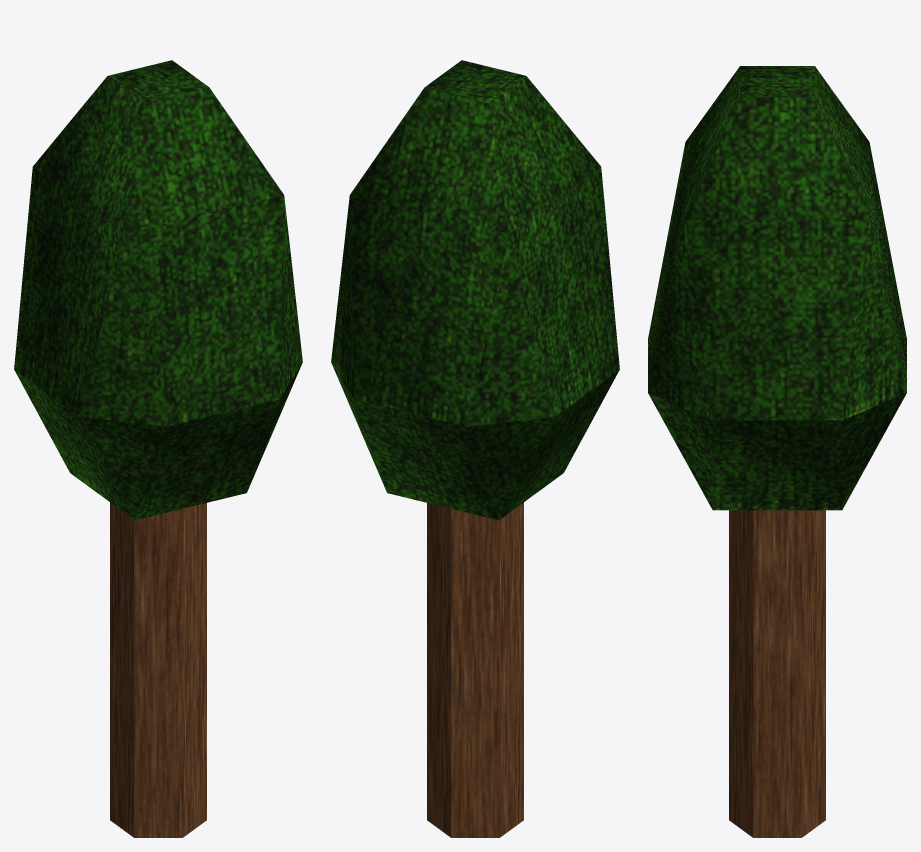
Rendered from LowArbreTestTextures.obj.
3 renders of one model, left to right at view 1: azimuth 30°, elevation 25°; view 2: azimuth 150°, elevation 25°; view 3: azimuth 270°, elevation 25°, orthographic.
Visible parts, largest first — view 1: Cube_Cube.001, Cylinder; view 2: Cube_Cube.001, Cylinder; view 3: Cube_Cube.001, Cylinder.
Boxes of the visible parts, x1=… form: Cube_Cube.001: x1=14, y1=60, x2=302, y2=520; Cylinder: x1=110, y1=502, x2=206, y2=837; Cube_Cube.001: x1=331, y1=60, x2=619, y2=520; Cylinder: x1=427, y1=502, x2=523, y2=837; Cube_Cube.001: x1=648, y1=66, x2=906, y2=510; Cylinder: x1=729, y1=510, x2=825, y2=837.
Bounding box in the file's own units: 1.6 × 5.5 × 1.6.
3 materials, 2 textured.
